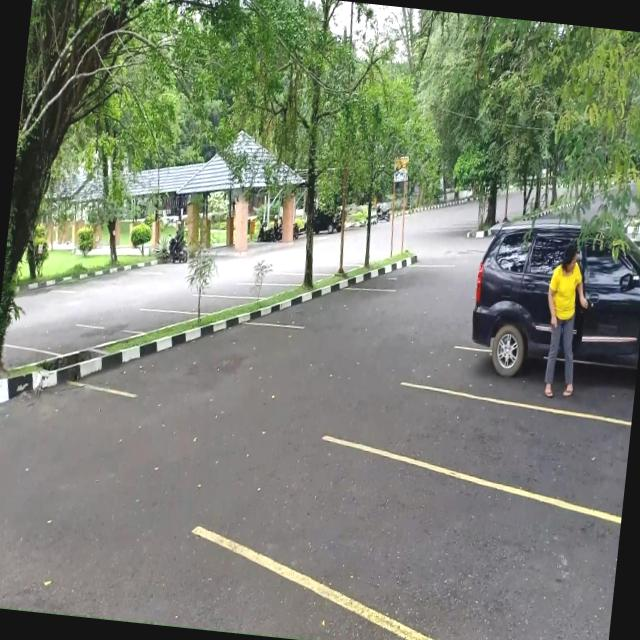car: (459, 279, 640, 420)
free: (345, 454, 625, 640), (434, 393, 632, 506), (289, 279, 376, 337), (44, 318, 106, 359), (376, 258, 436, 298), (112, 303, 177, 338), (190, 290, 237, 320), (236, 278, 286, 302)
